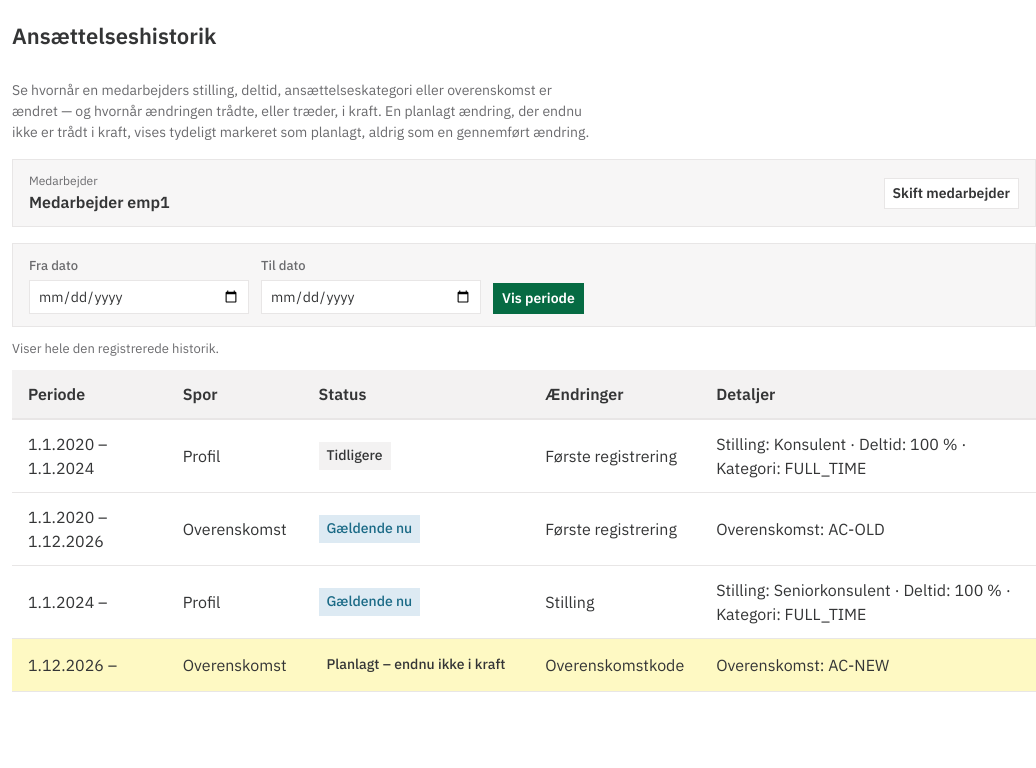
Test: EmploymentHistoryPage — a malformed range is a refusal, not an empty result › shows a refusal Alert when "from" is not earlier than "to", and never the empty-history message
The image size is (1036, 768).
Expected: the row with test id "history-row-profile-0" is shown, x1=12 y1=419 x2=1035 y2=492
Step 1. Type "2025-06-01" into the date field labelled "Fra dato" → (139, 296), box x1=29 y1=280 x2=249 y2=314
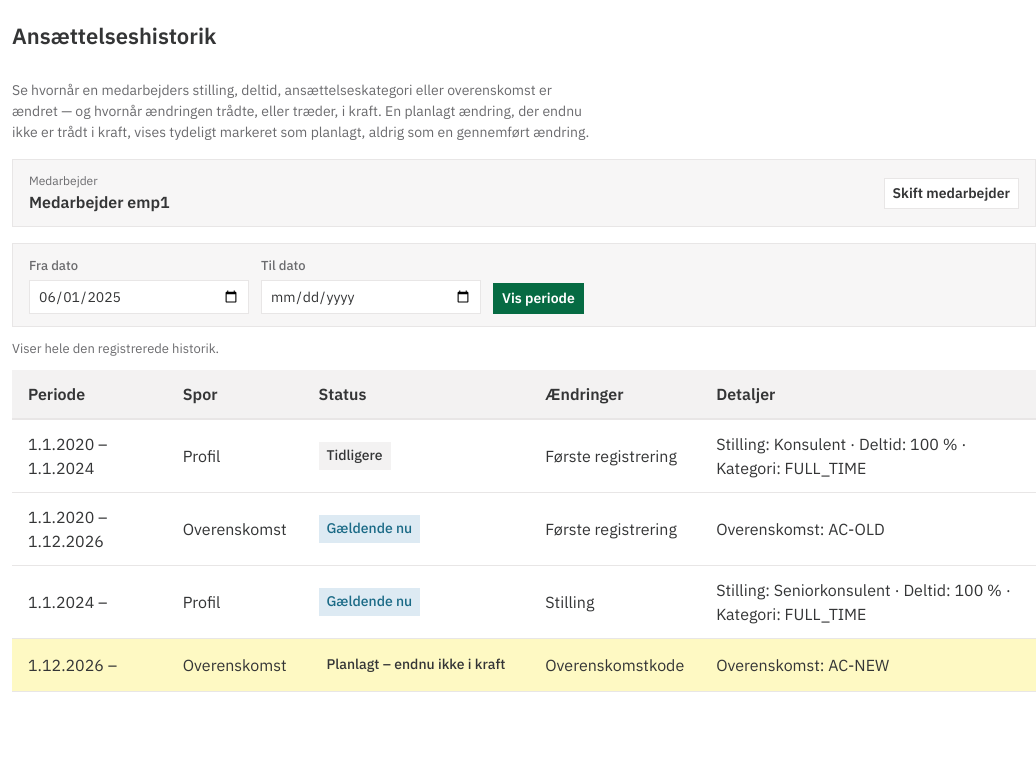
Step 2. Type "2025-01-01" into the date field labelled "Til dato" → (371, 296), box x1=261 y1=280 x2=481 y2=314
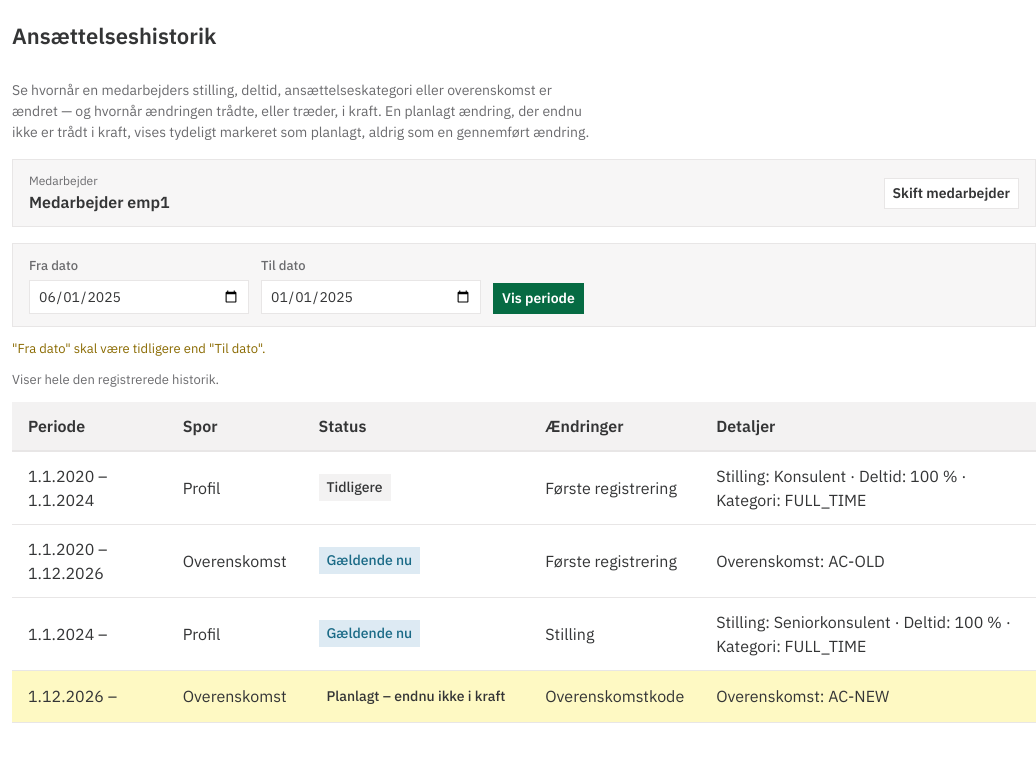
Step 3. Click the button "Vis periode" → (538, 298), box x1=493 y1=282 x2=584 y2=314
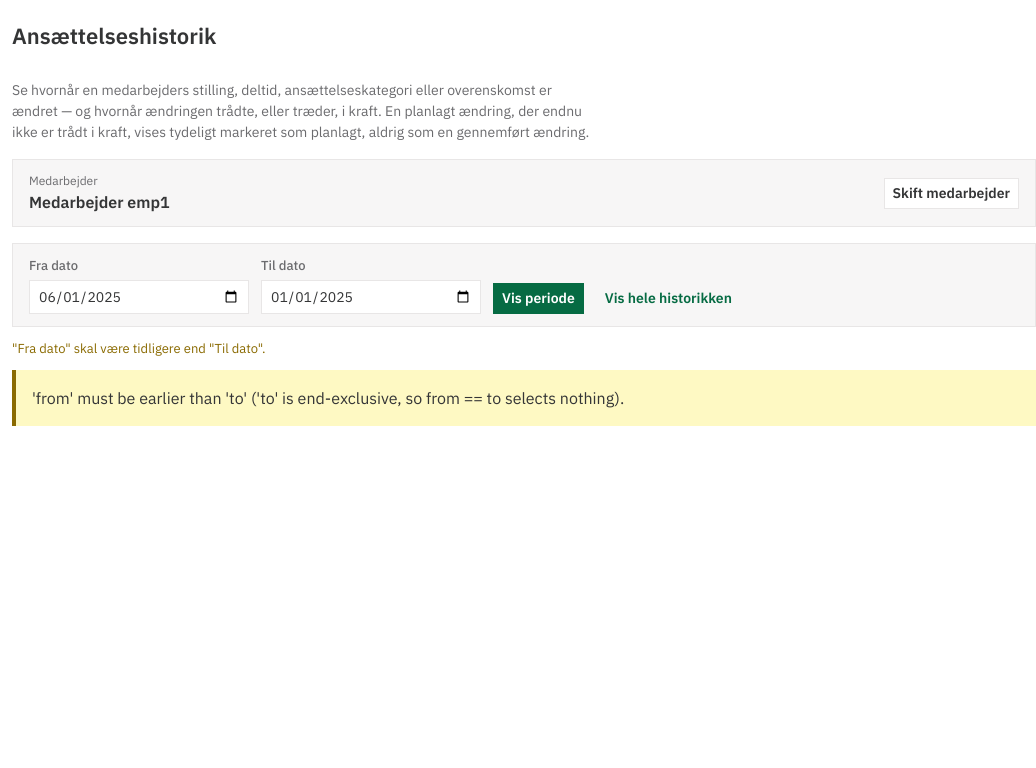
Result: the message is shown at x1=12 y1=370 x2=1035 y2=426
Result: the message shows "'from' must be earlier than 'to'" at x1=32 y1=388 x2=624 y2=408
